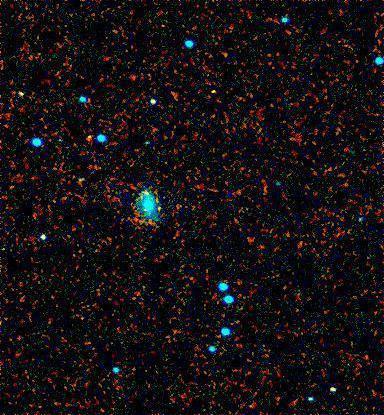star: (142, 198, 172, 228)
